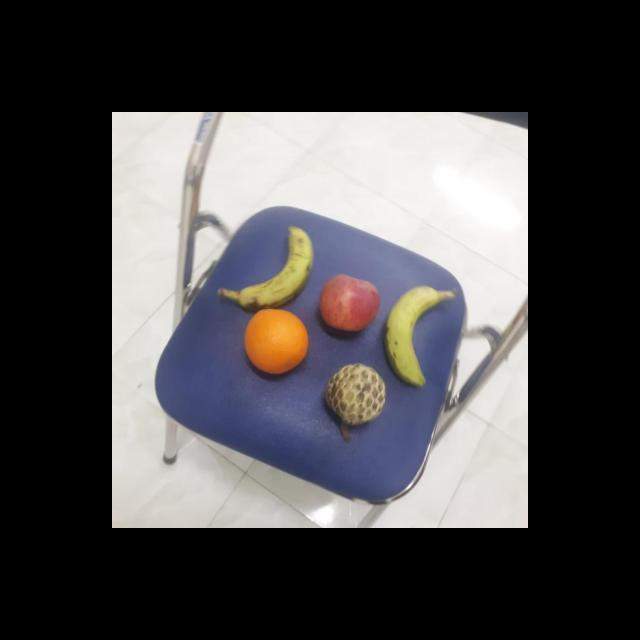Sakya fruit: (323, 361, 391, 426)
apple: (318, 272, 382, 332)
banana: (233, 220, 320, 313), (382, 282, 443, 388)
orange: (241, 306, 309, 376)
